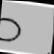no answer: (0, 15, 22, 46)
